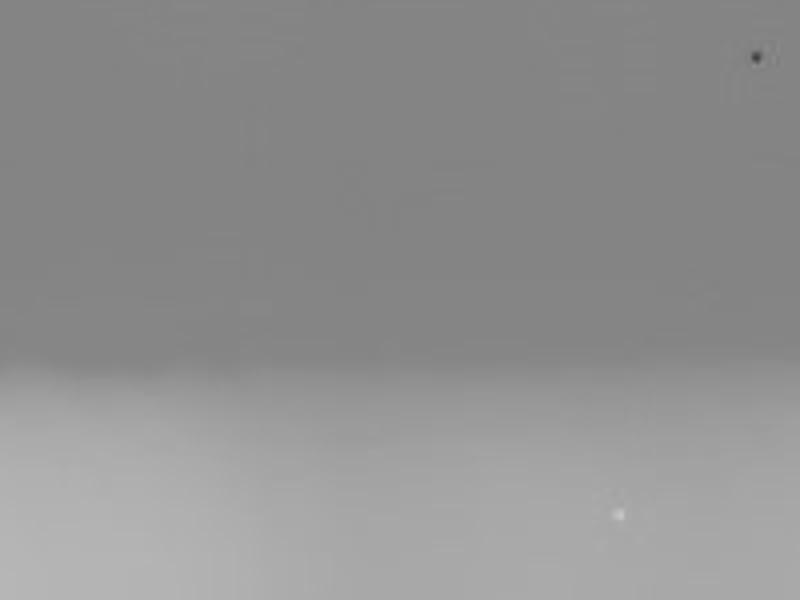defect: (749, 47, 765, 68)
